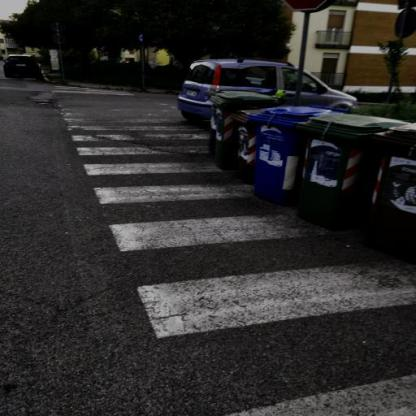crosswalk: (92, 214, 416, 343)
